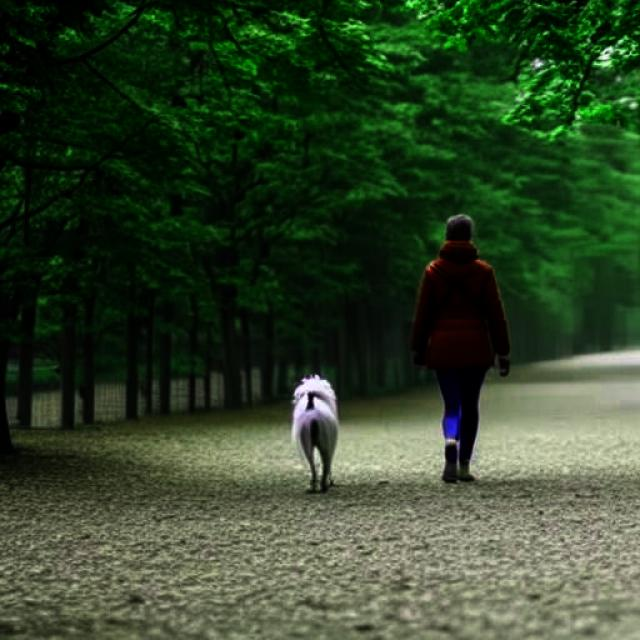Unleashed_Dog: (293, 336, 477, 493)
